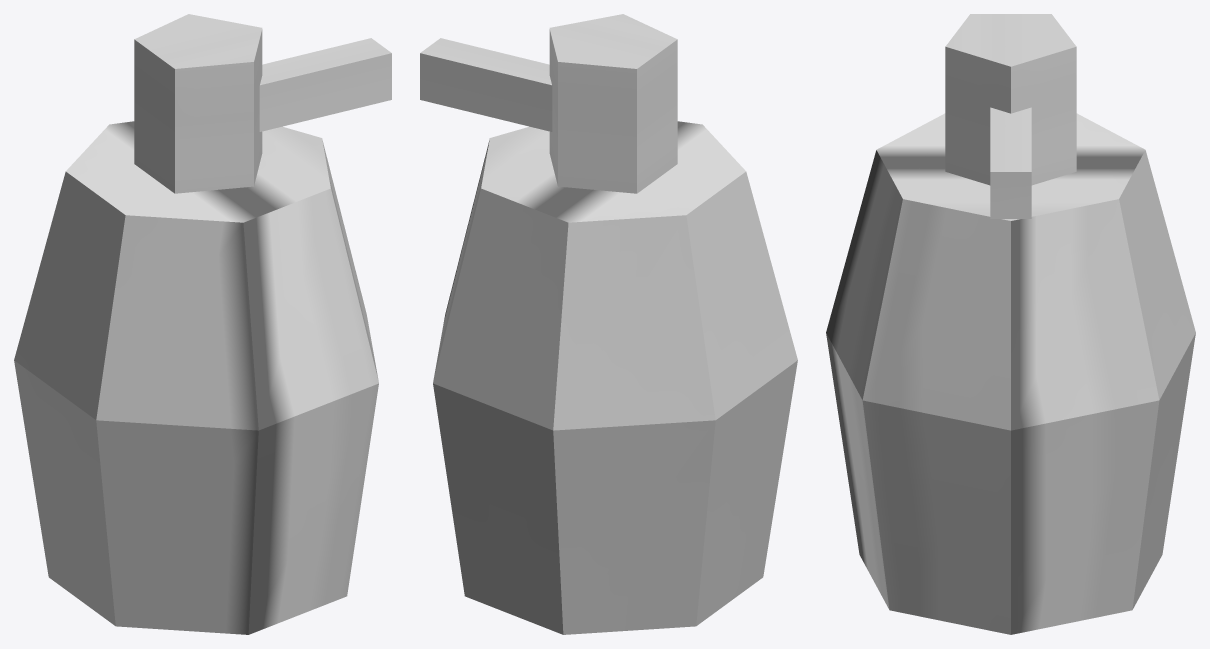
The model's file is molotov.obj.
3 views of the same model, side by side, from view 1: azimuth 30°, elevation 25°; view 2: azimuth 150°, elevation 25°; view 3: azimuth 270°, elevation 25° (orthographic).
Parts seen in each view (by area): view 1: molotov; view 2: molotov; view 3: molotov.
Part boxes in pixels (x1,y1,x2,y2): molotov: (14,14,391,634); molotov: (420,14,797,634); molotov: (826,14,1195,634).
Size of the model in its own units: 0.1096 by 0.17 by 0.1072.
